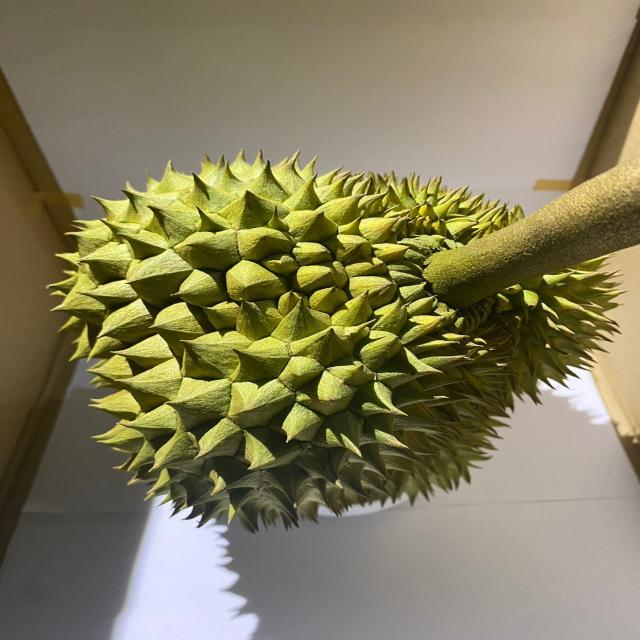immature: (53, 157, 623, 541)
